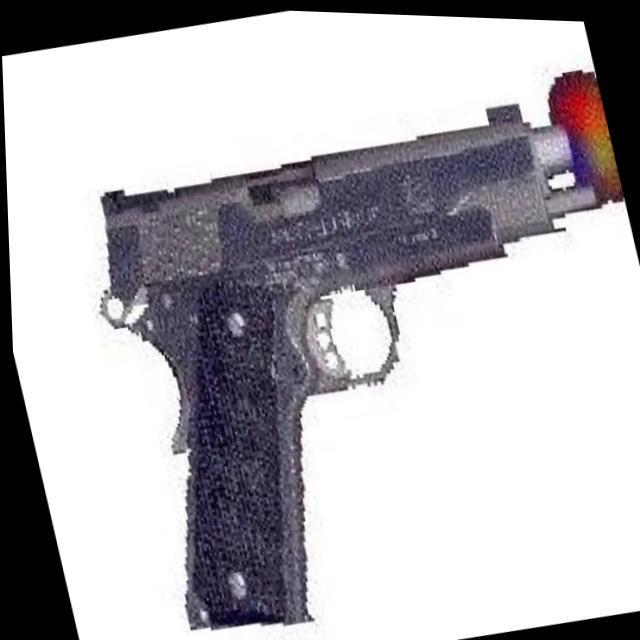weapon: (55, 41, 640, 640)
